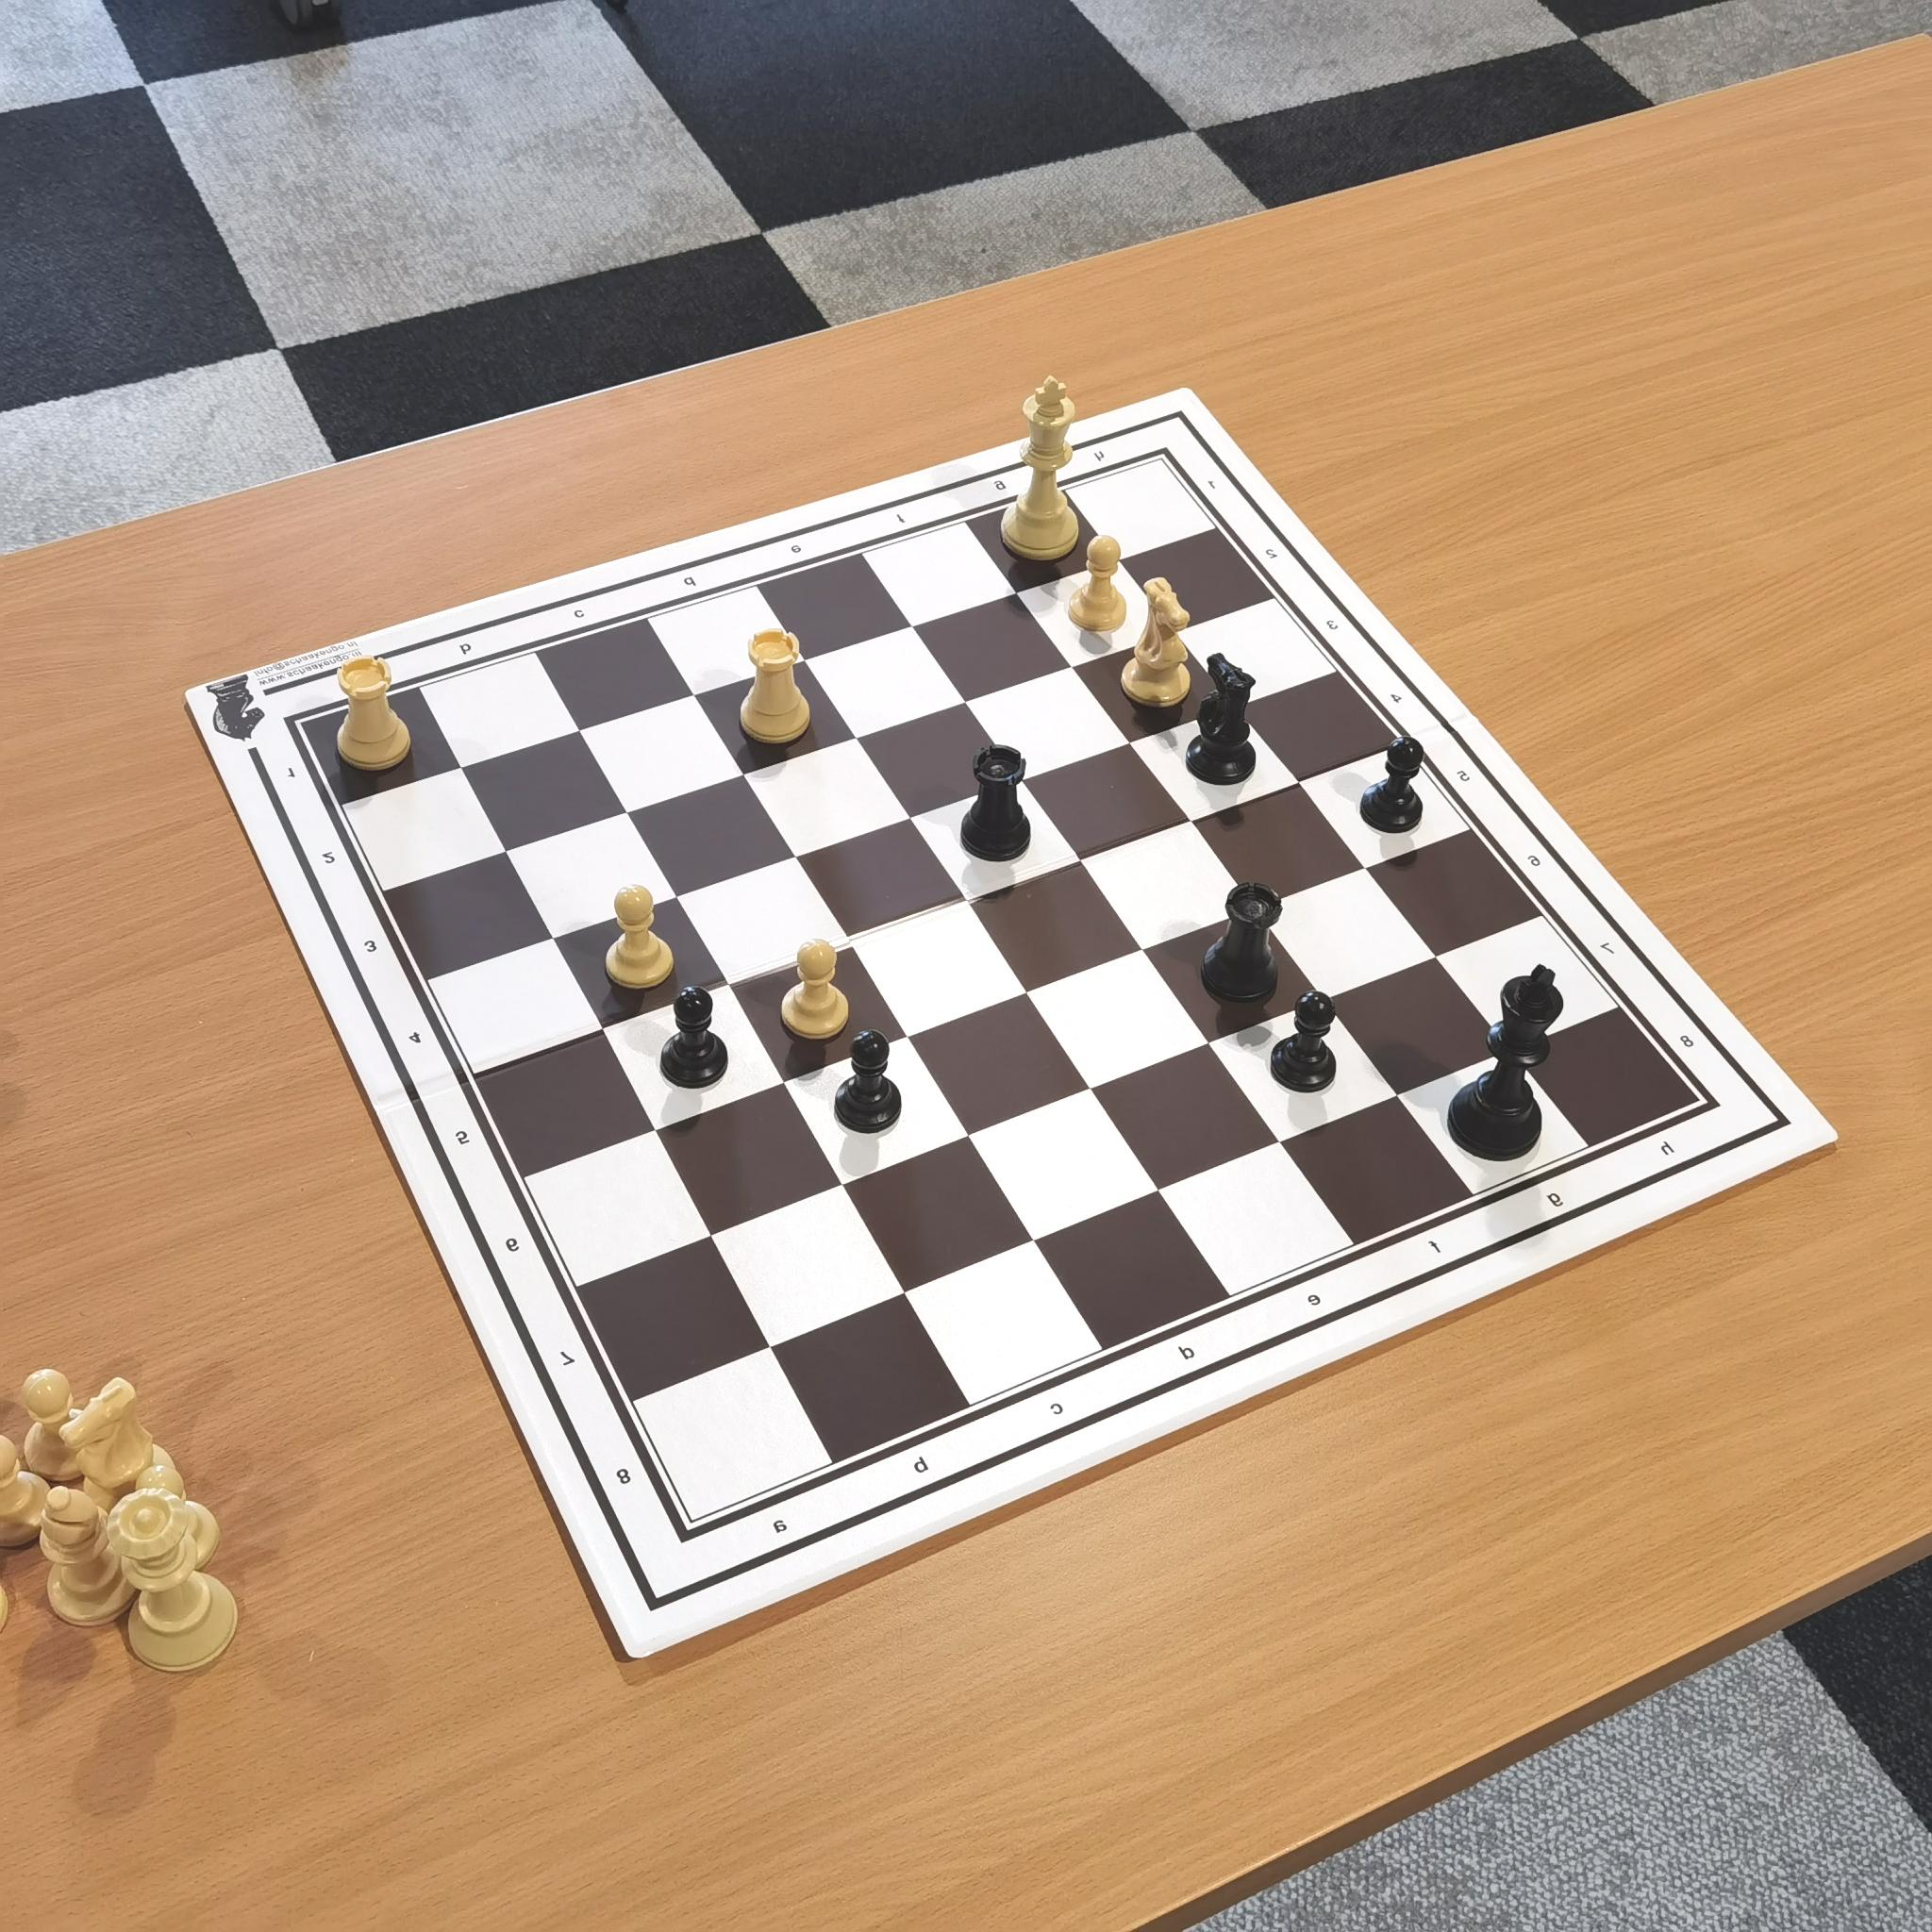corners: (655, 1511, 711, 1568), (1679, 1086, 1734, 1129), (265, 708, 317, 748), (1138, 442, 1185, 483)
eight: (1658, 1017, 1713, 1069), (603, 1451, 646, 1500)
one: (272, 750, 310, 798), (1191, 472, 1224, 506)
